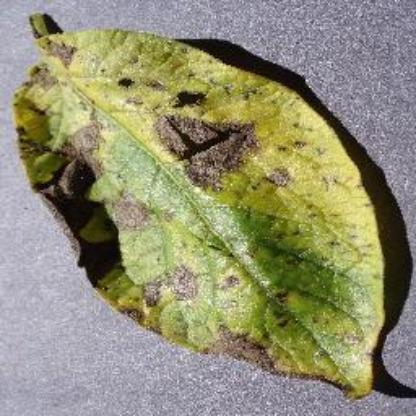Early-Blight: (19, 8, 388, 402)
